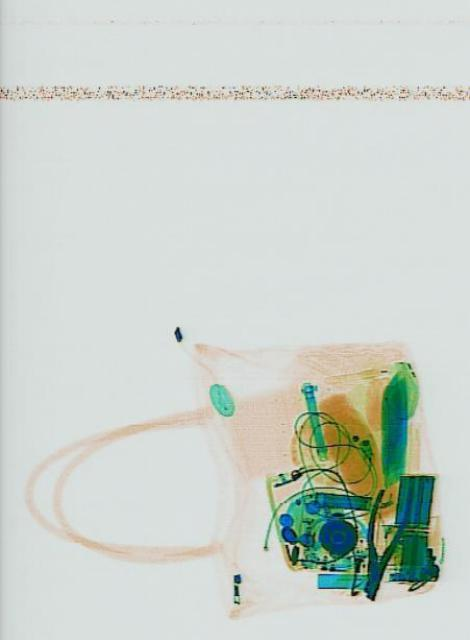Pliers: (347, 474, 416, 606)
